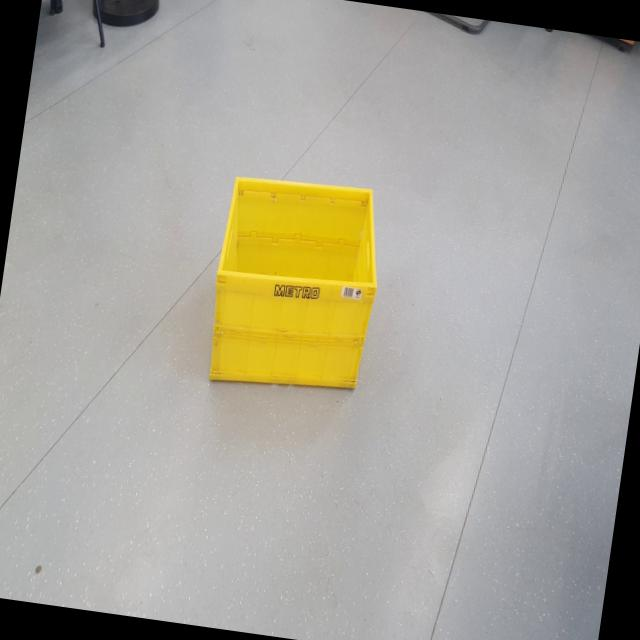box: (190, 156, 394, 408)
